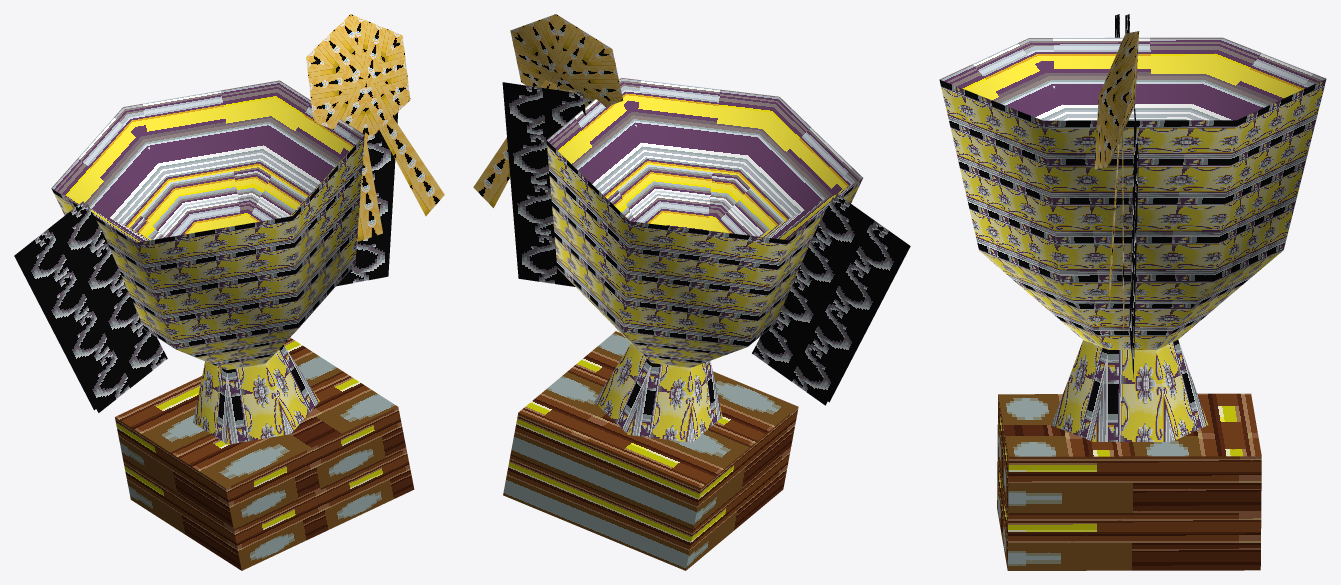
The model's file is MGtr_02.gltf.
3 views of the same model, side by side, from view 1: azimuth 30°, elevation 25°; view 2: azimuth 150°, elevation 25°; view 3: azimuth 270°, elevation 25° (orthographic). The views are drawn at different scales.
Visible parts, largest first — view 1: MGtr_02; view 2: MGtr_02; view 3: MGtr_02.
Part boxes in pixels (bbox=[...]): MGtr_02: bbox=[14, 14, 444, 570]; MGtr_02: bbox=[473, 14, 910, 570]; MGtr_02: bbox=[939, 14, 1326, 570].
Bounding box in the file's own units: 0.7946 × 0.8408 × 0.5083.
Materials: 4 (4 with a texture image).
